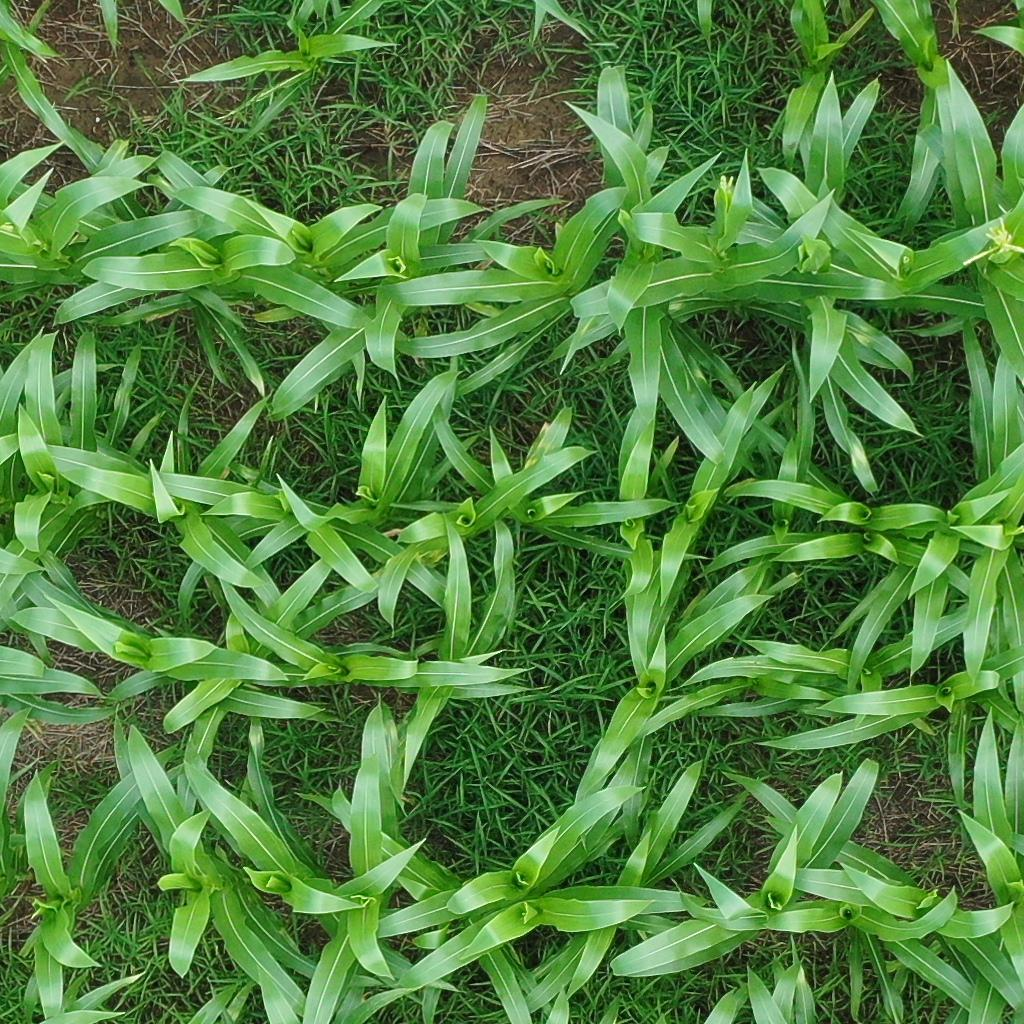Tassel: (955, 223, 1024, 264), (717, 174, 735, 198)
